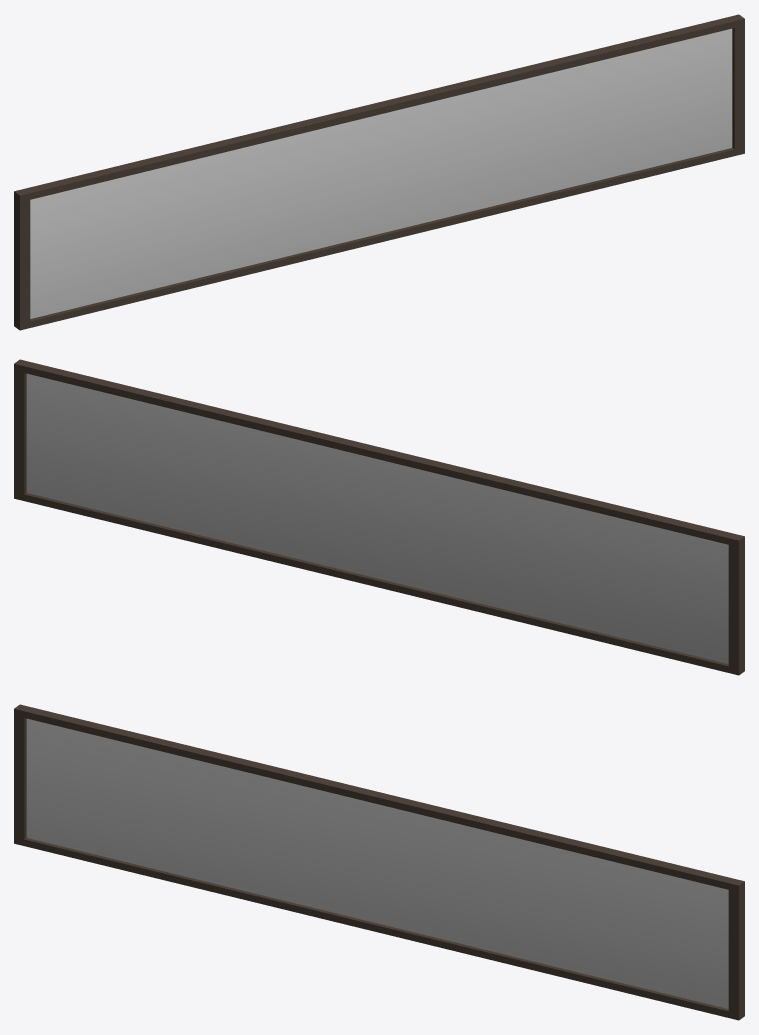
The model's file is Wall Long.fbx.
3 renders of one model, top to bottom at view 1: azimuth 30°, elevation 25°; view 2: azimuth 150°, elevation 25°; view 3: azimuth 330°, elevation 25°, orthographic.
Visible parts, largest first — view 1: pCube20; view 2: pCube20; view 3: pCube20.
Part boxes in pixels (x1,y1,x2,y2): pCube20: (14, 14, 744, 330); pCube20: (14, 359, 744, 675); pCube20: (14, 704, 744, 1020).
Bounding box in the file's own units: 70.3 × 12.5 × 1.
Materials: 1 (1 with a texture image).
